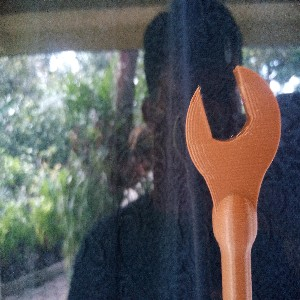spanner: (184, 65, 281, 300)
